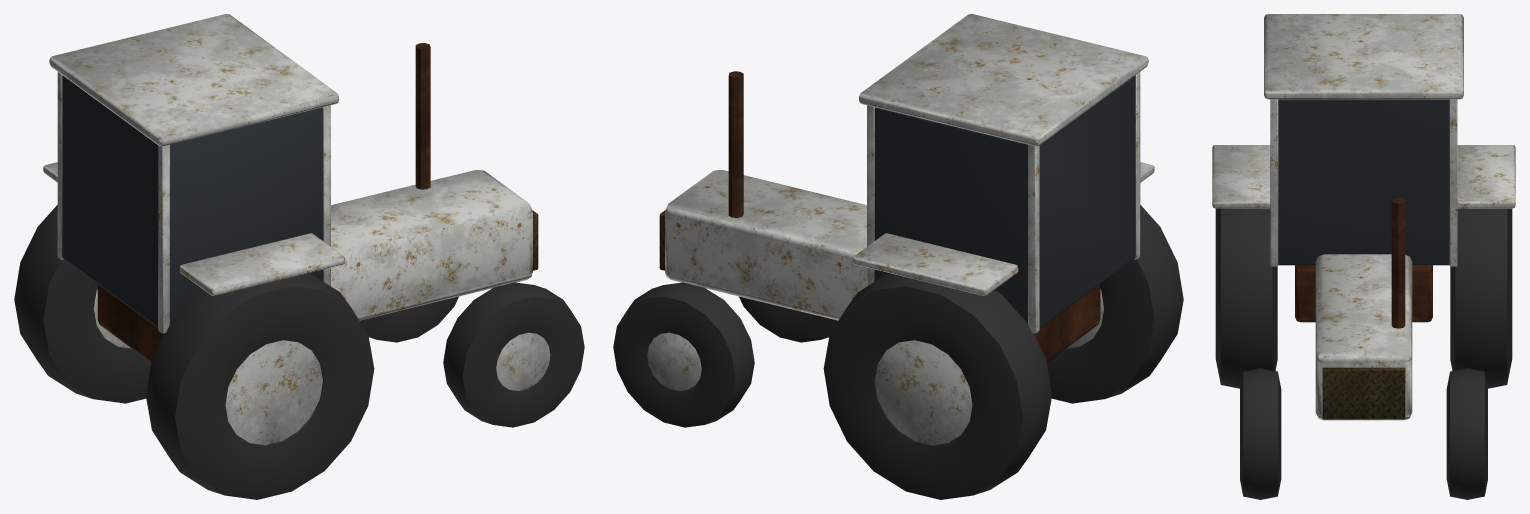
File: veh_tractor.gltf
The picture shows the model from 3 angles, left to right: view 1: azimuth 30°, elevation 25°; view 2: azimuth 150°, elevation 25°; view 3: azimuth 270°, elevation 25°; orthographic projection. The views are drawn at different scales.
Parts seen in each view (by area): view 1: box.002, torus, box, box.007, torus.001, torus.002, cyl.001, box.008, cyl.002, box.001, torus.003, cyl (+3 smaller); view 2: box.002, torus.002, box, box.007, torus.003, torus, cyl.003, box.009, cyl.004, box.001, torus.001, cyl (+3 smaller); view 3: box.002, box.007, box, torus, torus.002, torus.001, torus.003, box.010, box.008, box.009, box.001, cyl (+2 smaller).
Boxes of the visible parts, box(x1,y1,x2,y2) form: box.002: box(62, 75, 323, 327); torus: box(146, 273, 374, 499); box: box(331, 170, 532, 320); box.007: box(49, 14, 338, 146); torus.001: box(443, 282, 584, 427); torus.002: box(14, 205, 151, 403); cyl.001: box(225, 340, 322, 445); box.008: box(179, 233, 345, 295); cyl.002: box(496, 332, 550, 390); box.001: box(97, 284, 163, 362); torus.003: box(360, 296, 458, 342); cyl: box(415, 43, 430, 189); box.002: box(874, 75, 1135, 327); torus.002: box(823, 273, 1051, 499); box: box(665, 170, 866, 320); box.007: box(859, 14, 1148, 146); torus.003: box(613, 282, 754, 427); torus: box(1046, 205, 1183, 403); cyl.003: box(875, 340, 972, 445); box.009: box(852, 233, 1018, 295); cyl.004: box(647, 332, 701, 390); box.001: box(1034, 284, 1100, 362); torus.001: box(739, 296, 837, 342); cyl: box(728, 71, 743, 217); box.002: box(1278, 99, 1449, 265); box.007: box(1264, 14, 1463, 99); box: box(1315, 254, 1412, 420); torus: box(1215, 208, 1277, 388); torus.002: box(1450, 208, 1512, 388); torus.001: box(1240, 368, 1281, 499); torus.003: box(1446, 368, 1487, 499); box.010: box(1322, 367, 1405, 419); box.008: box(1212, 145, 1270, 208); box.009: box(1457, 145, 1515, 208); box.001: box(1295, 265, 1432, 322); cyl: box(1391, 198, 1405, 328).
Size of the model in its own units: 3.21 by 2.62 by 2.2.
Materials: 5 (3 with a texture image).
